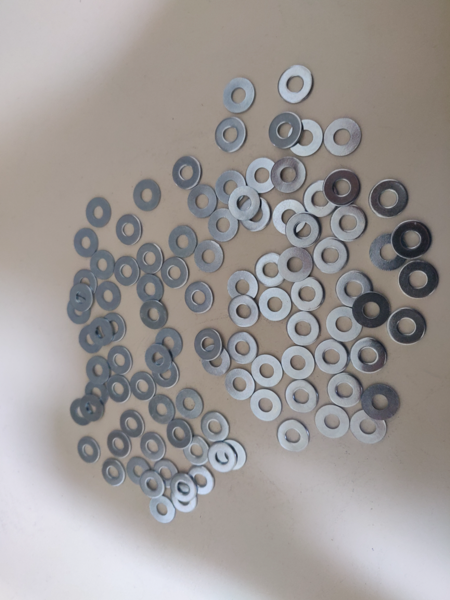circle: (322, 115, 364, 160), (368, 177, 411, 219), (391, 219, 432, 260), (398, 260, 439, 300), (369, 233, 409, 273), (323, 168, 362, 208), (388, 307, 427, 346), (286, 118, 324, 158), (302, 181, 341, 219), (353, 292, 391, 330), (330, 205, 368, 243), (362, 383, 401, 420), (350, 338, 390, 374), (328, 372, 365, 410), (278, 65, 314, 104), (313, 238, 349, 276), (337, 271, 372, 310), (269, 111, 304, 149), (327, 307, 363, 343), (278, 247, 315, 282), (214, 116, 248, 154), (315, 340, 353, 374), (350, 410, 388, 444), (223, 75, 256, 114), (286, 312, 321, 348), (238, 196, 273, 232), (286, 212, 321, 248), (292, 278, 326, 315), (316, 405, 351, 440), (285, 380, 320, 415), (272, 200, 307, 235), (133, 241, 168, 276), (245, 158, 279, 194), (250, 355, 288, 387), (282, 346, 316, 381), (214, 171, 249, 205), (228, 186, 262, 221), (254, 253, 289, 287), (208, 208, 241, 244), (272, 158, 306, 192), (223, 367, 258, 400), (228, 294, 261, 328), (225, 331, 259, 364), (259, 288, 291, 323), (249, 389, 282, 422), (226, 270, 260, 302), (278, 420, 310, 453), (187, 185, 218, 219), (132, 177, 161, 212), (114, 212, 143, 247), (161, 255, 190, 289), (200, 343, 230, 375), (173, 157, 202, 190), (185, 281, 213, 315), (84, 196, 112, 230), (154, 328, 184, 359), (200, 412, 230, 443), (185, 466, 216, 496), (168, 226, 197, 258), (208, 441, 237, 473), (153, 357, 180, 391), (195, 327, 221, 362), (139, 300, 169, 330), (218, 439, 248, 469), (194, 241, 222, 273), (145, 343, 173, 375), (176, 387, 203, 420), (101, 312, 128, 345), (89, 250, 116, 281), (183, 436, 210, 467), (73, 227, 99, 259), (96, 280, 122, 312), (171, 484, 199, 513), (113, 257, 140, 287), (137, 274, 164, 304), (170, 473, 197, 503), (126, 457, 152, 488), (70, 283, 96, 314), (155, 459, 179, 492), (148, 496, 176, 524), (149, 395, 176, 424), (108, 346, 134, 376), (88, 316, 114, 346), (77, 325, 104, 353), (119, 410, 145, 439), (86, 356, 112, 385), (131, 372, 156, 402), (107, 429, 132, 459), (73, 269, 98, 299), (140, 432, 166, 460), (84, 380, 110, 408), (65, 297, 91, 325), (168, 420, 192, 449), (80, 395, 104, 424), (107, 376, 132, 403), (140, 472, 165, 499), (77, 436, 101, 464), (70, 398, 94, 426), (102, 459, 125, 486)
